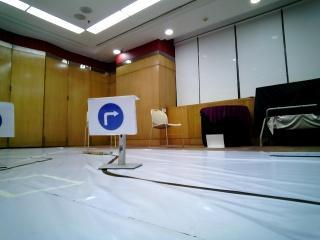right: (90, 101, 132, 132)
